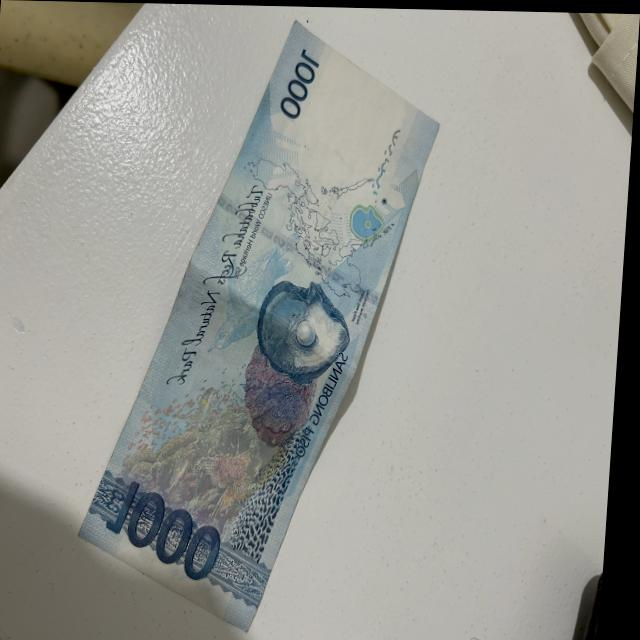1000_pearl: (253, 284, 353, 379)
1000_pearl_watermark: (351, 199, 391, 244)
